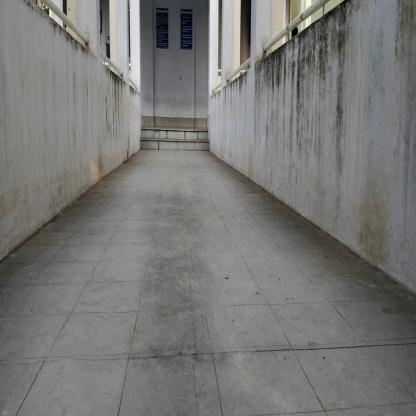stairs: (140, 123, 212, 159)
